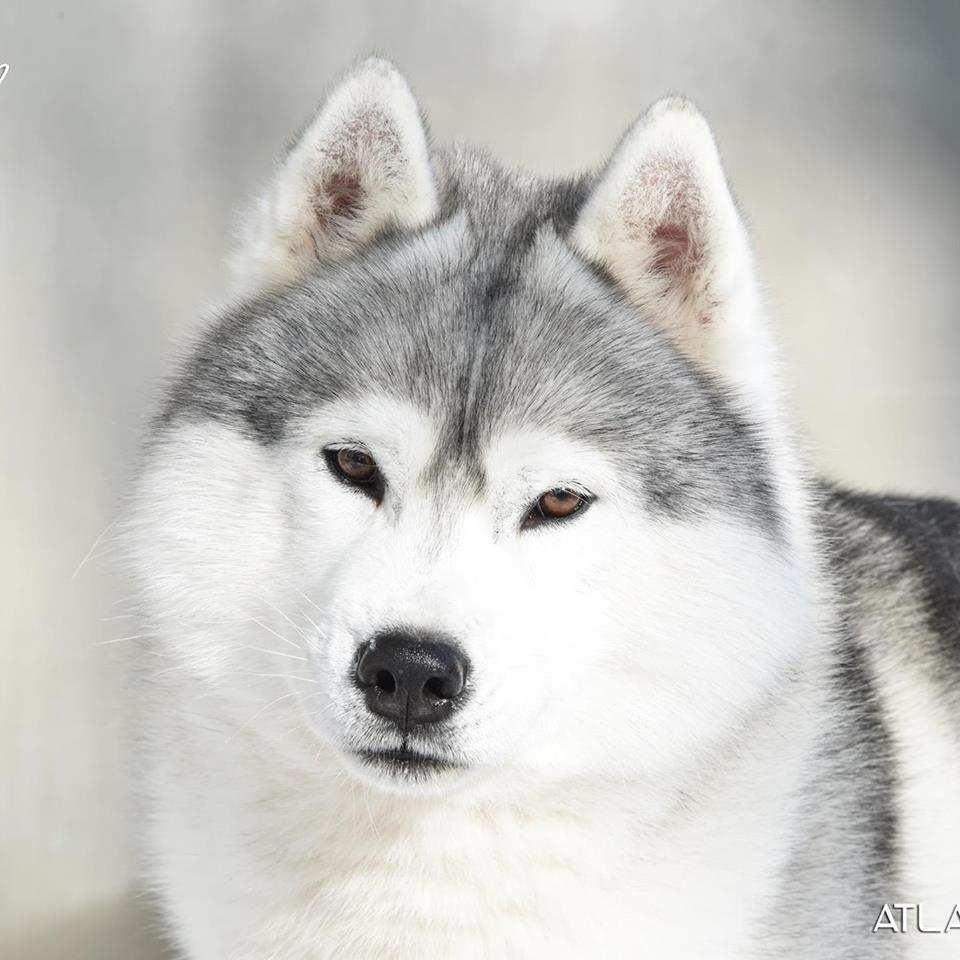husky: (83, 49, 905, 869)
